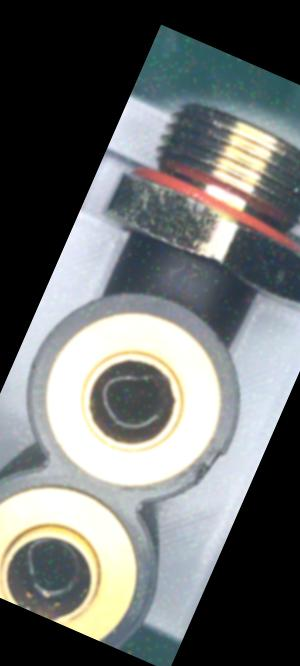bump: (186, 435, 236, 499), (1, 512, 2, 577)
joint line: (173, 271, 194, 303)
off-centered: (4, 522, 102, 614), (85, 353, 178, 445)
